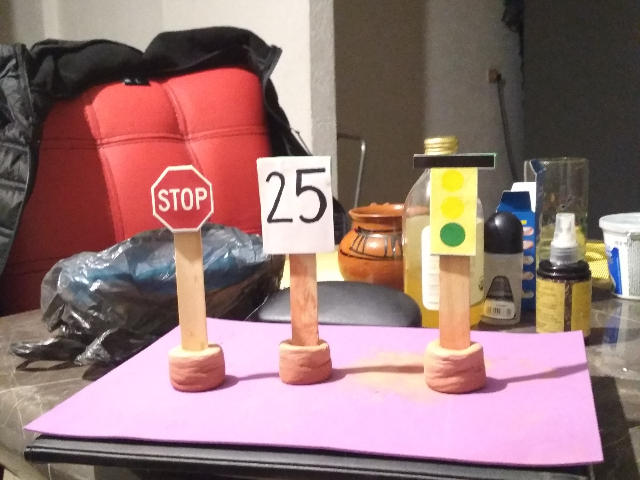Green: (406, 144, 503, 262)
Limit 25: (247, 147, 342, 259)
Stop: (146, 159, 219, 236)
